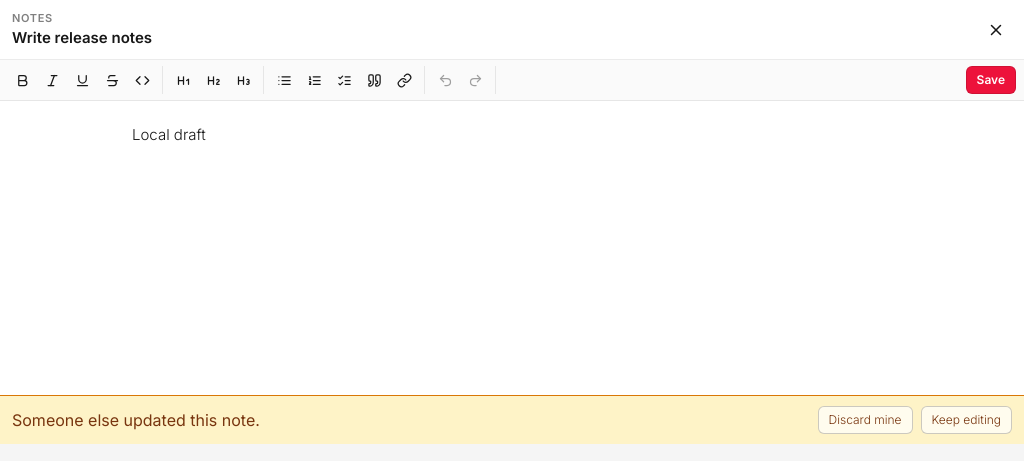
EditNotes › keeps the local draft and clears the conflict when continuing to edit
Click the button "Keep editing". click: (966, 420)
box: x1=920 y1=406 x2=1012 y2=434
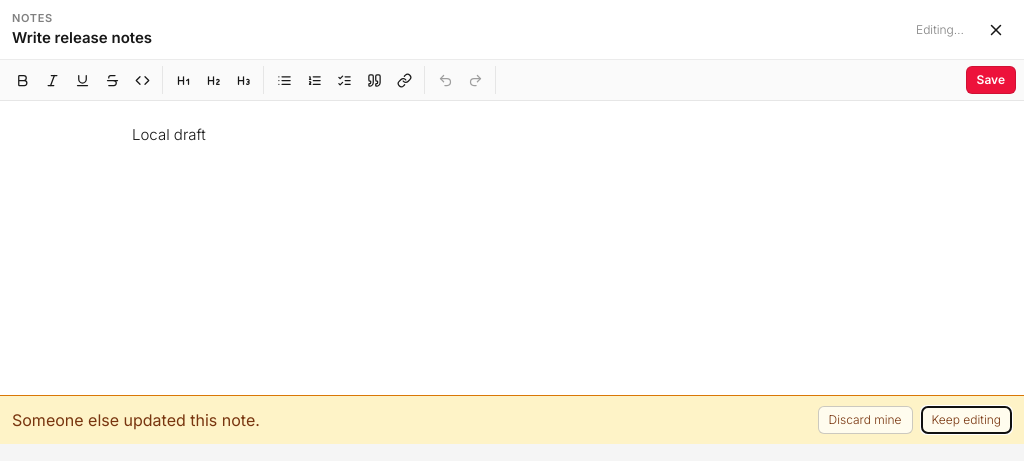
Expected: the field with test id "notes-editor-surface" reads "Local draft", x1=132 y1=125 x2=206 y2=144
Now the text with test id "notes-save-status" shows "Editing", box x1=916 y1=22 x2=964 y2=36
